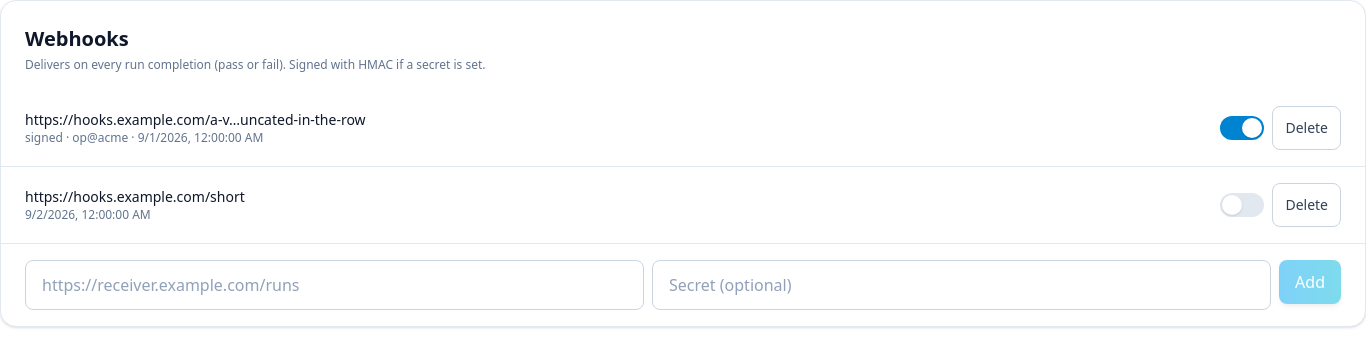
WebhooksCard › deletes a webhook only on the second, confirming click
Click the button "Delete" in the row of "signed ·" at (1307, 128), box [1272,106,1341,150]
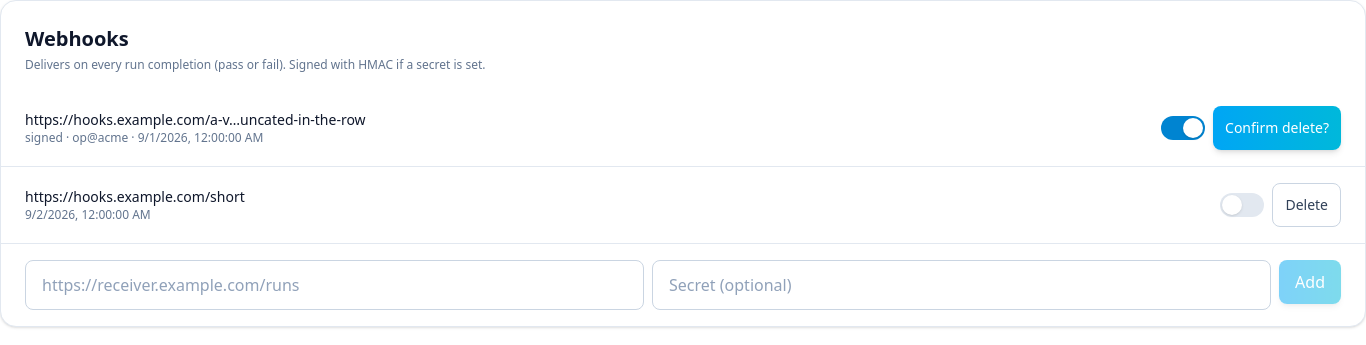
Click the button "Confirm delete?" at (1277, 128), box [1213,106,1341,150]
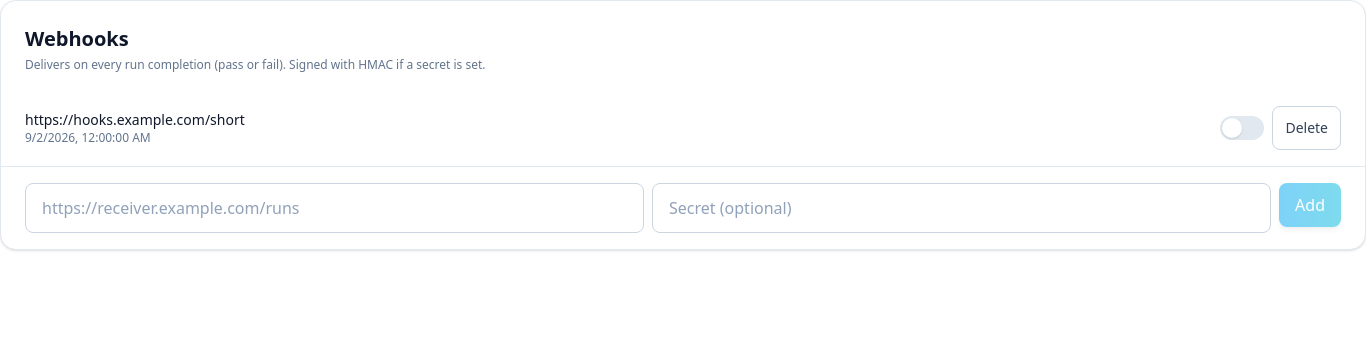
Check: the list item with test id "webhook-row-3" is gone
